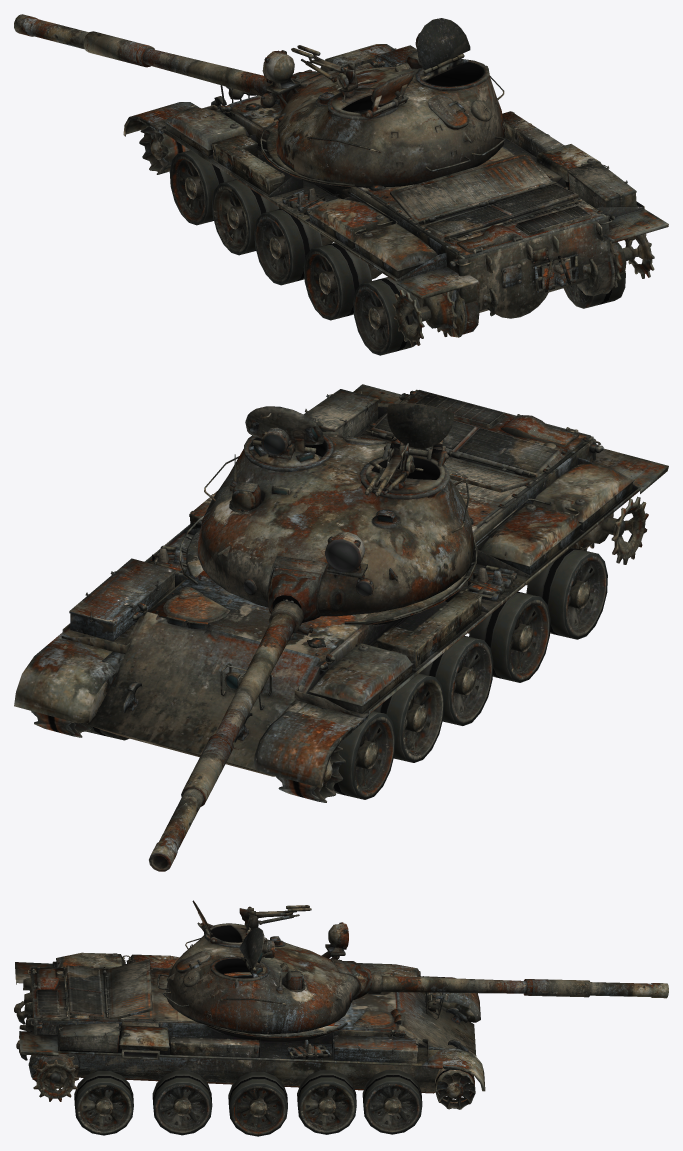
File: Tank.fbx
3 renders of one model, top to bottom at view 1: azimuth 30°, elevation 25°; view 2: azimuth 150°, elevation 25°; view 3: azimuth 270°, elevation 25°, orthographic. The views are drawn at different scales.
Parts seen in each view (by area): view 1: Tank; view 2: Tank; view 3: Tank.
Boxes of the visible parts, x1,y1,x2,y2 form: Tank: [14, 14, 668, 355]; Tank: [14, 384, 668, 871]; Tank: [14, 900, 668, 1136].
Size of the model in its own units: 932 by 786 by 2610.
1 material, 1 textured.
